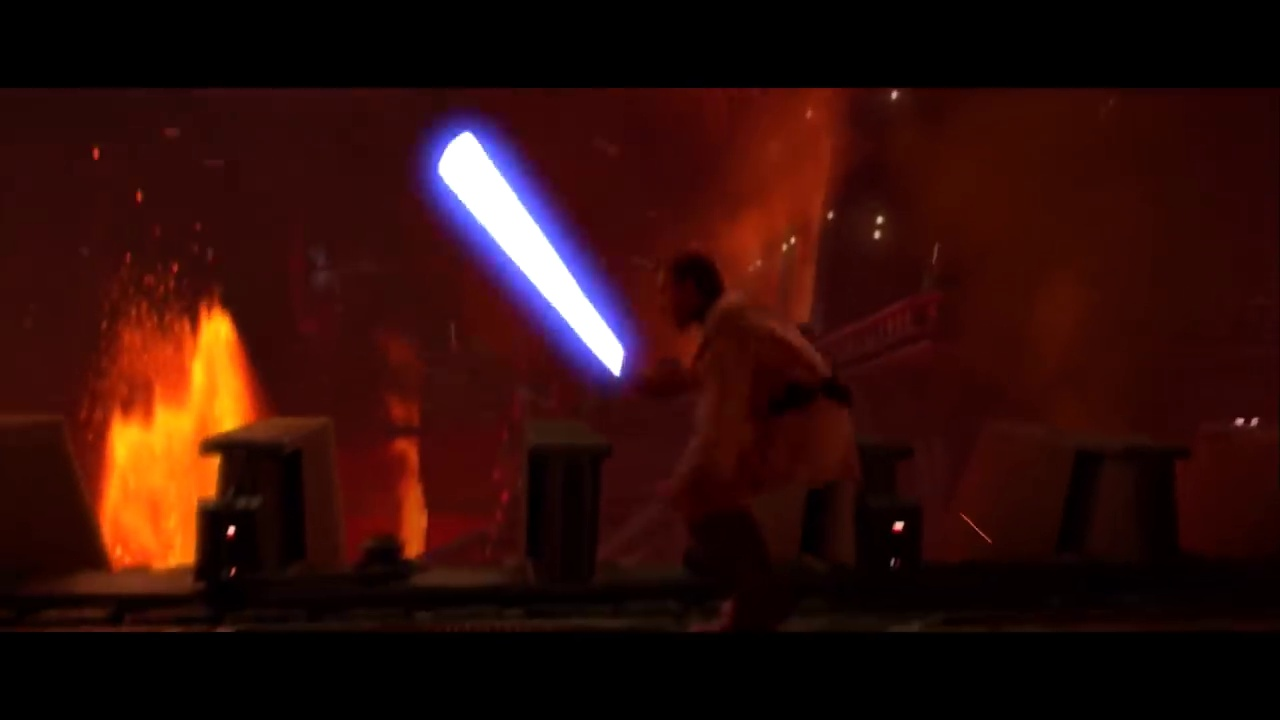lightsaber: (409, 122, 656, 409)
